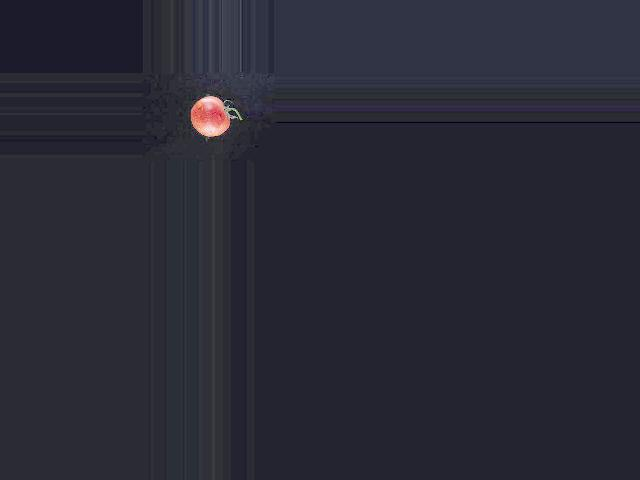tomato: (190, 96, 230, 137)
